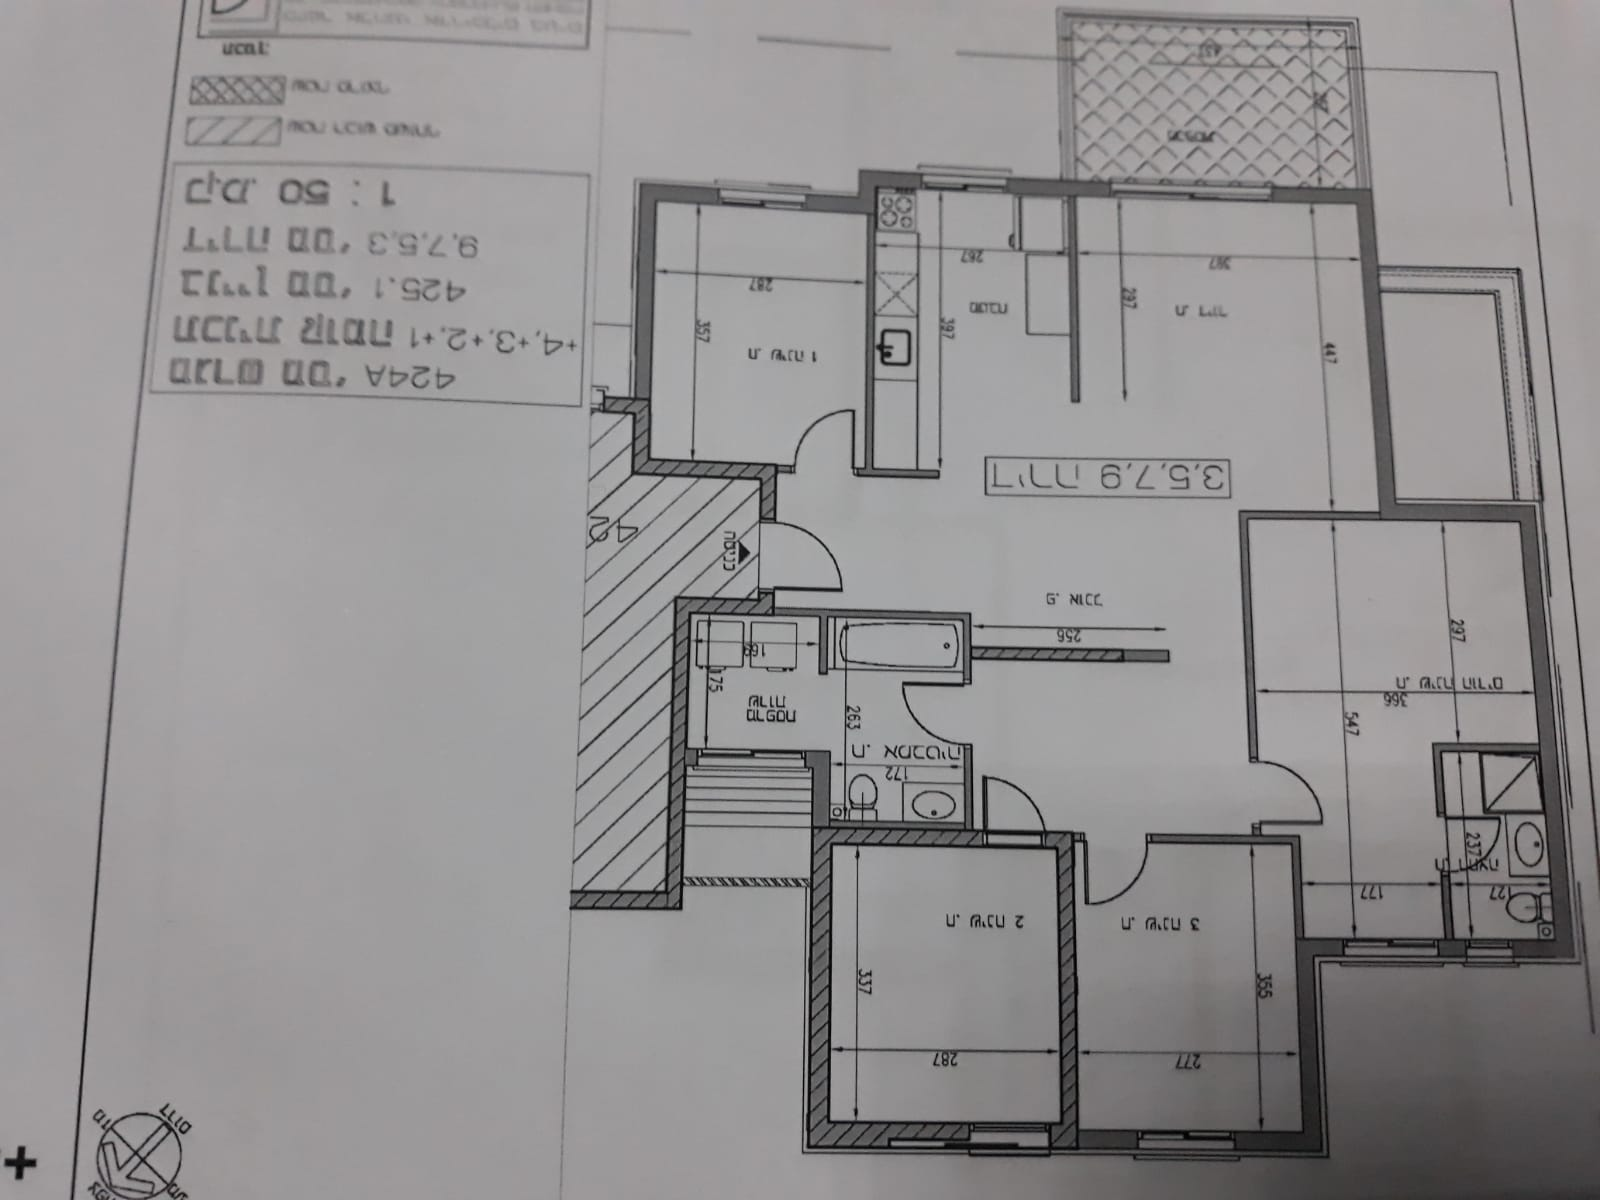door: (1070, 821, 1165, 911), (889, 679, 999, 753), (1235, 755, 1338, 829), (781, 405, 871, 487), (981, 773, 1051, 855), (1435, 812, 1508, 880)
wall: (1283, 852, 1356, 1163), (632, 173, 687, 405), (1233, 502, 1279, 753), (804, 824, 835, 1152), (666, 597, 693, 929)
window: (1097, 173, 1285, 216), (1333, 926, 1448, 979), (704, 166, 815, 218), (1120, 1121, 1252, 1163), (910, 158, 1024, 204), (692, 734, 810, 773)
